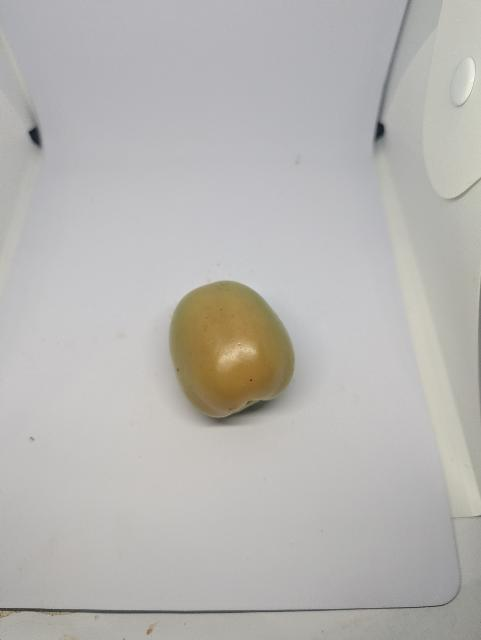breaker: (158, 278, 304, 421)
